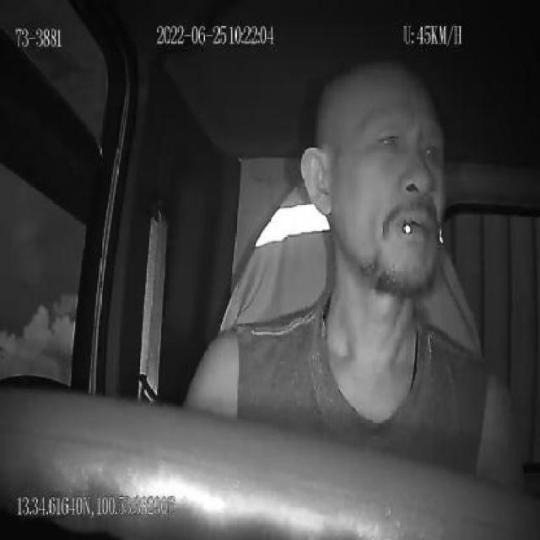smoking: (402, 216, 412, 235)
